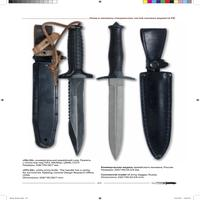knife: (96, 19, 134, 163), (61, 21, 94, 163)
